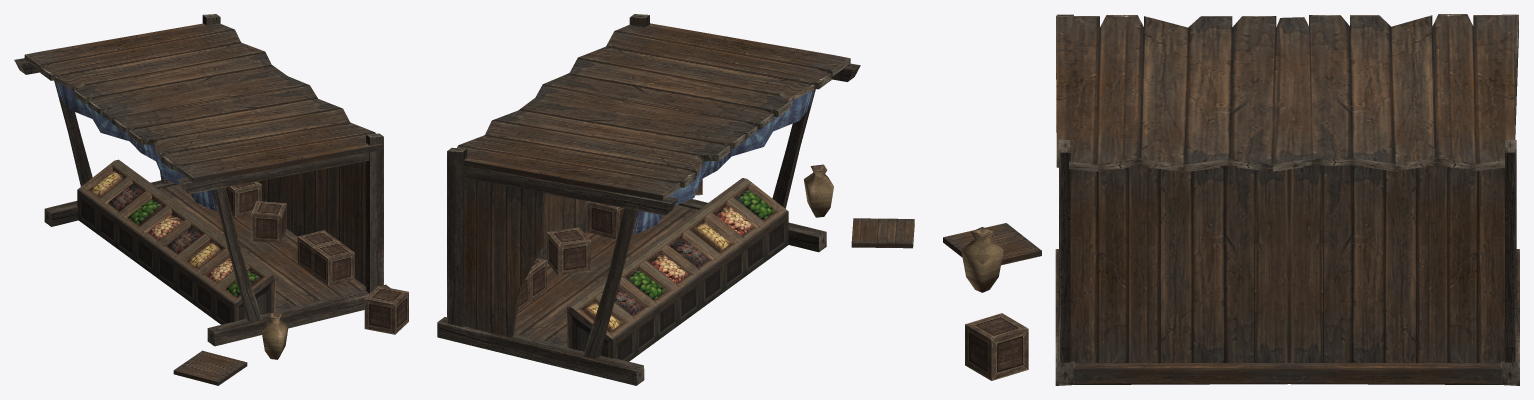
The model's file is SC_yonghengsenlin_34.FBX.
3 views of the same model, side by side, from view 1: azimuth 30°, elevation 25°; view 2: azimuth 150°, elevation 25°; view 3: azimuth 270°, elevation 25° (orthographic). The views are drawn at different scales.
Visible parts, largest first — view 1: SC_yonghengsenlin_34; view 2: SC_yonghengsenlin_34; view 3: SC_yonghengsenlin_34.
Part boxes in pixels (bbox=[...]): SC_yonghengsenlin_34: bbox=[14, 14, 408, 385]; SC_yonghengsenlin_34: bbox=[437, 14, 914, 385]; SC_yonghengsenlin_34: bbox=[943, 14, 1519, 385].
Bounding box in the file's own units: 386 × 271 × 596.
